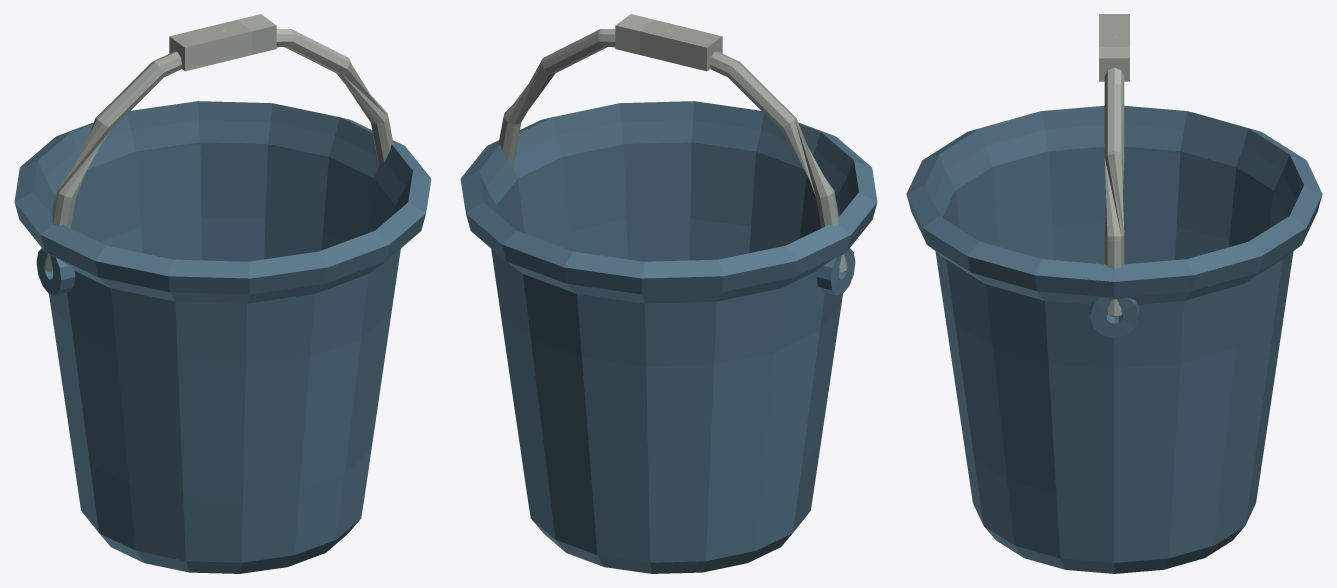
Rendered from plastic-bucket.glb.
3 views of the same model, side by side, from view 1: azimuth 30°, elevation 25°; view 2: azimuth 150°, elevation 25°; view 3: azimuth 270°, elevation 25° (orthographic).
Visible parts, largest first — view 1: plastic-bucket/moulded-hollow-bucket, plastic-bucket/plastic-carry-handle, plastic-bucket/wide-plastic-grip, plastic-bucket/moulded-ear--1; view 2: plastic-bucket/moulded-hollow-bucket, plastic-bucket/plastic-carry-handle, plastic-bucket/wide-plastic-grip, plastic-bucket/moulded-ear--1; view 3: plastic-bucket/moulded-hollow-bucket, plastic-bucket/plastic-carry-handle, plastic-bucket/wide-plastic-grip, plastic-bucket/moulded-ear-1.
Boxes of the visible parts, left/top/right/bottom form: plastic-bucket/moulded-hollow-bucket: left=14, top=101, right=431, bottom=573; plastic-bucket/plastic-carry-handle: left=44, top=29, right=393, bottom=272; plastic-bucket/wide-plastic-grip: left=169, top=14, right=276, bottom=71; plastic-bucket/moulded-ear--1: left=36, top=248, right=75, bottom=295; plastic-bucket/moulded-hollow-bucket: left=460, top=101, right=877, bottom=573; plastic-bucket/plastic-carry-handle: left=498, top=29, right=847, bottom=272; plastic-bucket/wide-plastic-grip: left=615, top=14, right=722, bottom=71; plastic-bucket/moulded-ear--1: left=816, top=248, right=855, bottom=295; plastic-bucket/moulded-hollow-bucket: left=906, top=105, right=1322, bottom=573; plastic-bucket/plastic-carry-handle: left=1104, top=35, right=1124, bottom=315; plastic-bucket/wide-plastic-grip: left=1099, top=14, right=1129, bottom=81; plastic-bucket/moulded-ear-1: left=1090, top=297, right=1138, bottom=338.
Size of the model in its own units: 0.338 by 0.434 by 0.338.
Materials: 2 (2 with a texture image).
